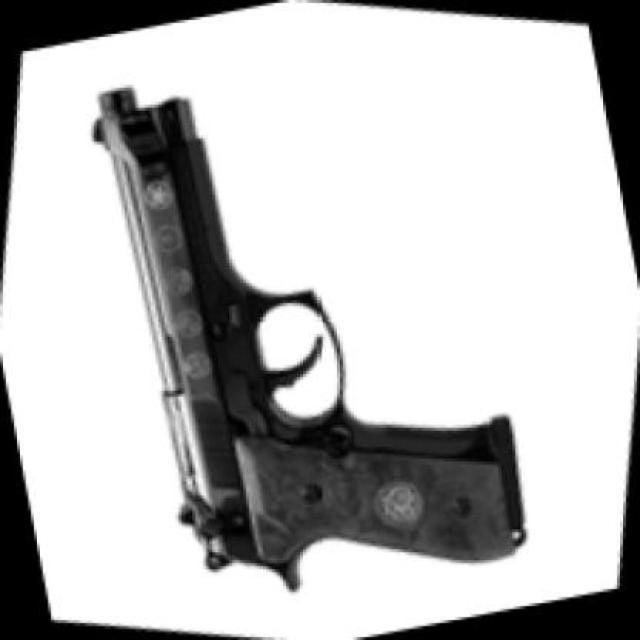weapon: (91, 90, 529, 593)
